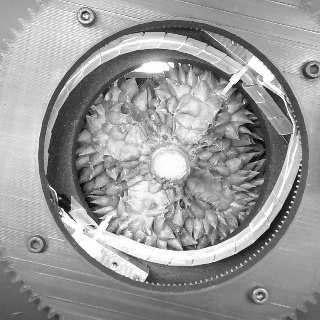base: (147, 141, 192, 188)
end: (152, 150, 187, 181)
